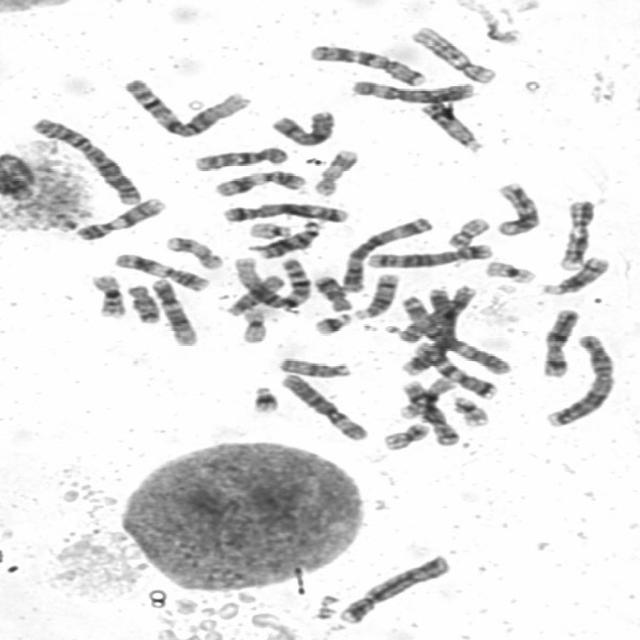A1: (116, 73, 253, 138), (226, 252, 314, 312)
A2: (24, 112, 144, 207), (538, 329, 619, 429)
A3: (393, 290, 512, 376), (334, 212, 436, 294)
B4: (332, 549, 452, 625), (394, 282, 466, 377)
B5: (362, 239, 496, 269), (214, 198, 353, 224)
C10: (486, 180, 549, 239), (187, 142, 290, 172)
C11: (107, 248, 212, 292), (207, 166, 309, 198)
C12: (405, 22, 500, 84), (145, 274, 199, 346)
C6: (274, 368, 371, 442), (343, 74, 477, 104)
C7: (302, 40, 429, 87), (408, 337, 501, 400)
C8: (394, 282, 479, 344), (396, 377, 462, 447)
C9: (69, 192, 167, 242), (552, 194, 598, 272)
D13: (414, 98, 486, 153), (250, 216, 324, 259)
D14: (534, 252, 612, 296), (348, 269, 401, 320)
D15: (220, 270, 287, 316), (272, 352, 355, 379)
E16: (393, 372, 459, 419), (84, 269, 128, 319)
E17: (308, 144, 361, 197), (159, 231, 225, 271)
E18: (308, 271, 355, 312), (121, 280, 163, 324)
F19: (478, 256, 539, 284), (234, 303, 270, 344)
F20: (441, 212, 492, 249), (375, 418, 432, 451)
G21: (306, 308, 354, 336), (244, 381, 282, 414)
G22: (447, 392, 491, 427), (242, 217, 294, 240)
X: (534, 304, 583, 378), (262, 104, 338, 147)
